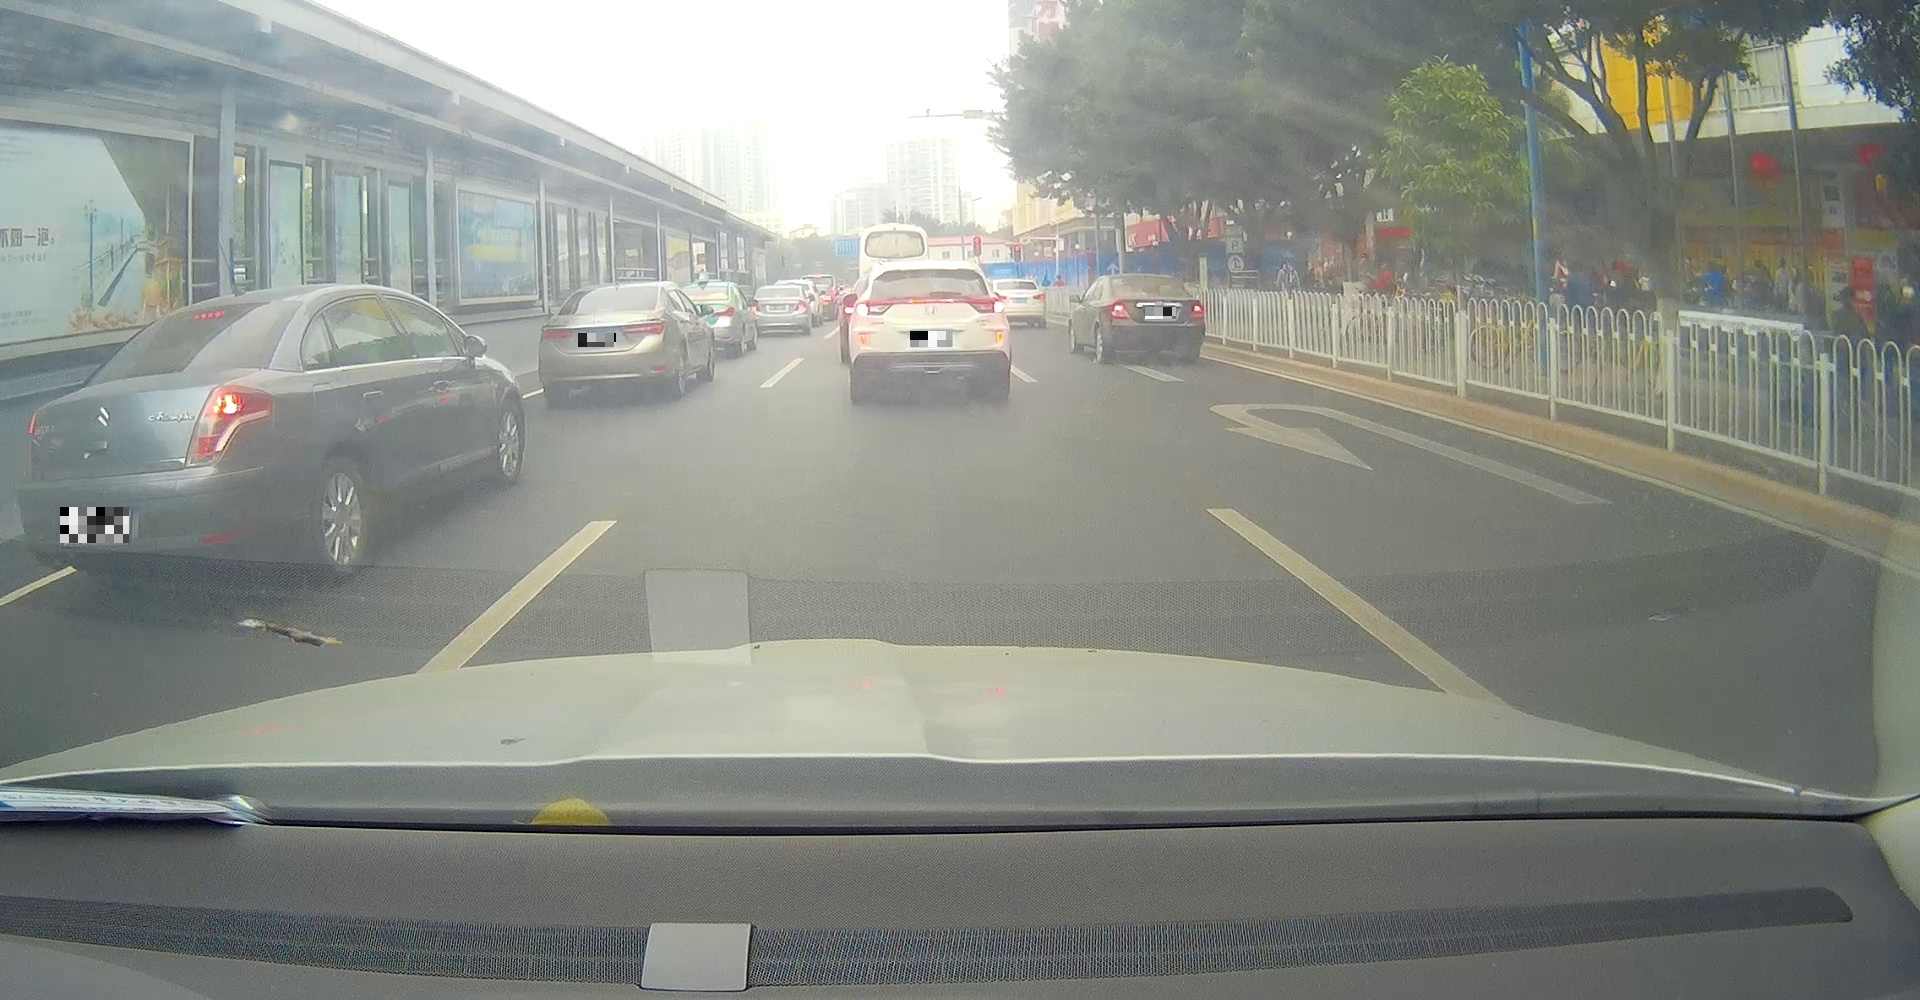L_light: (23, 409, 37, 477), (855, 299, 893, 319), (1110, 299, 1131, 321), (538, 327, 570, 340), (750, 303, 761, 313)
R_light: (182, 383, 273, 468), (968, 294, 1006, 313), (621, 321, 664, 334), (1189, 303, 1204, 319), (794, 299, 808, 313)
T_light: (905, 296, 955, 305), (190, 308, 229, 320), (607, 286, 627, 292), (1138, 275, 1156, 279), (775, 286, 786, 291)
day-brake: (14, 291, 314, 596), (848, 261, 1010, 400)
day-no: (535, 283, 670, 398), (1103, 274, 1205, 363)
night-left: (749, 286, 811, 335)
plate_1: (60, 508, 130, 543)
plate_2: (578, 332, 616, 346)
plate_3: (910, 331, 952, 346)
plate_4: (1145, 307, 1176, 319)
